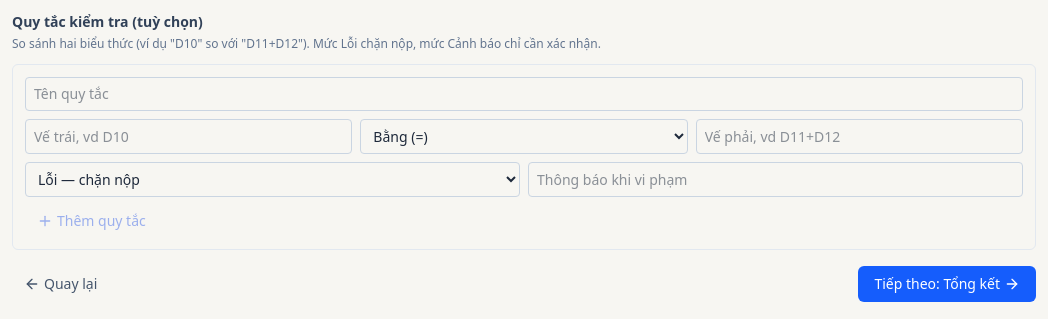
Test case: ReportRulesStep (S36, PR9 slice 1) › "Thêm quy tắc" stays disabled until name/leftExpr/rightExpr/message are all filled
The width and height of the screenshot is (1048, 319).
Expected: the button with test id "btn-add-rule" is disabled, [25, 205, 158, 237]
Type "R1" into the field with test id "input-rule-name".
click(524, 94); type("R1")  # box [25, 77, 1023, 111]
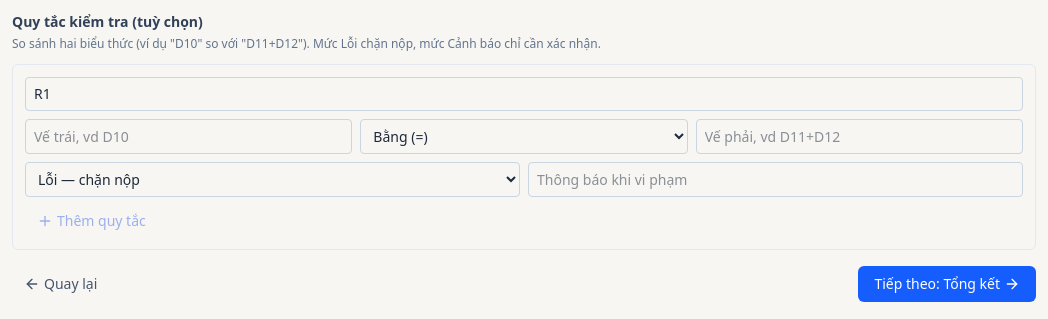
Expected: the button with test id "btn-add-rule" is disabled, [25, 205, 158, 237]
Type "D10" into the field with test id "input-rule-left".
click(189, 136); type("D10")  # box [25, 119, 352, 154]
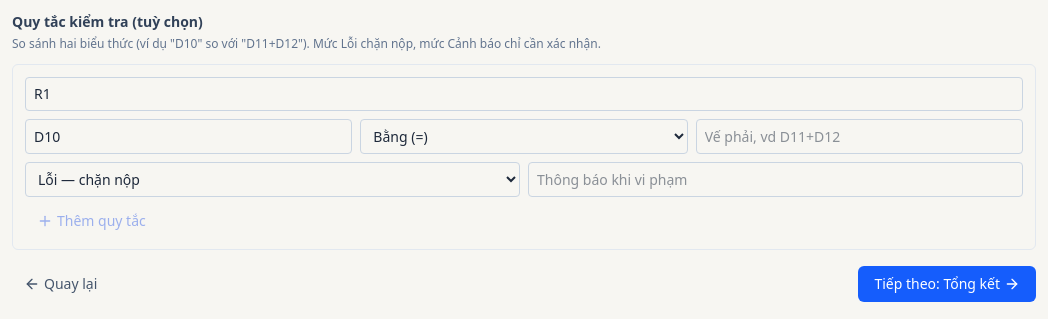
Type "D11+D12" into the field with test id "input-rule-right".
click(859, 136); type("D11+D12")  # box [696, 119, 1023, 154]
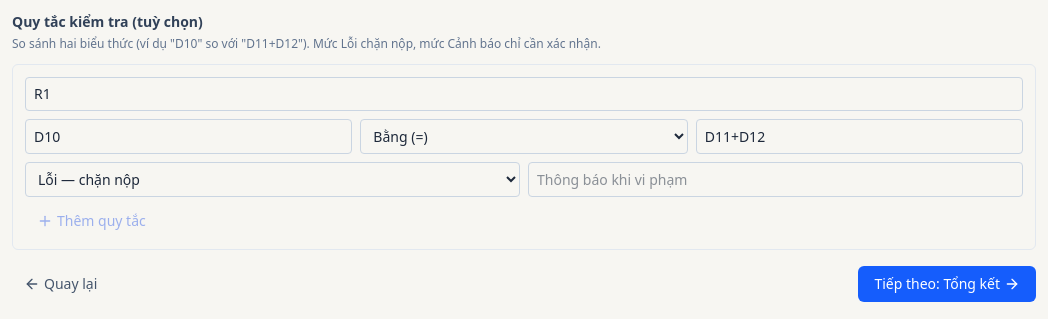
Expected: the button with test id "btn-add-rule" is disabled, [25, 205, 158, 237]
Type "Sai lệch" into the field with test id "input-rule-message".
click(776, 180); type("Sai lệch")  # box [528, 162, 1023, 197]
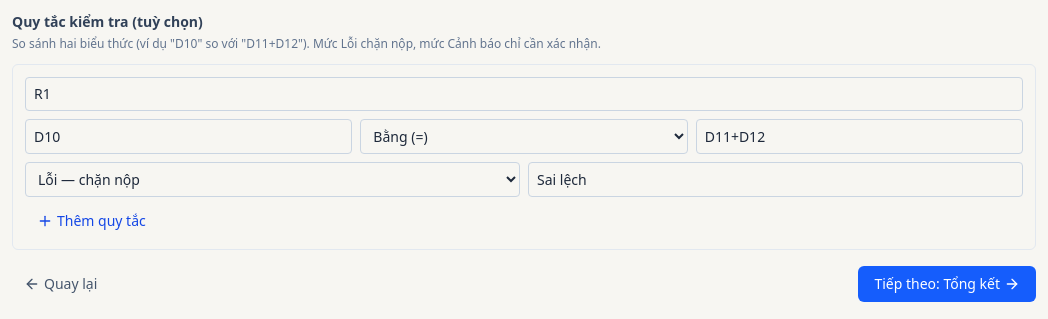
Expected: the button with test id "btn-add-rule" is enabled, [25, 205, 158, 237]
